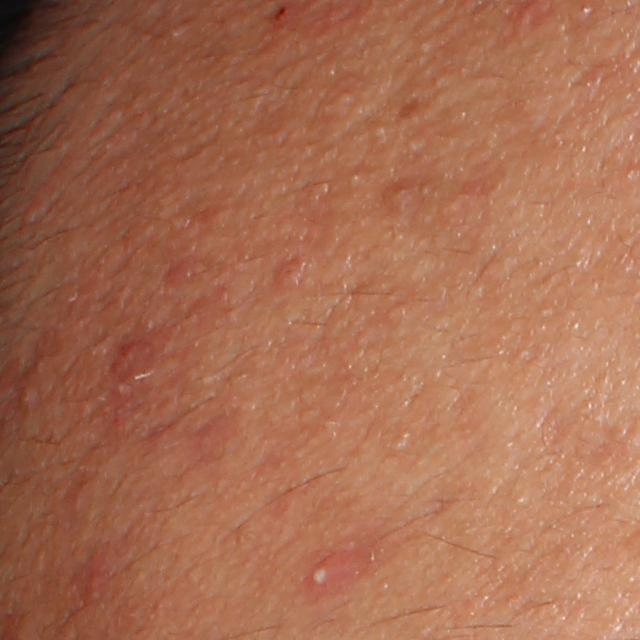papule: (381, 176, 422, 215)
pustule: (302, 555, 351, 600)
